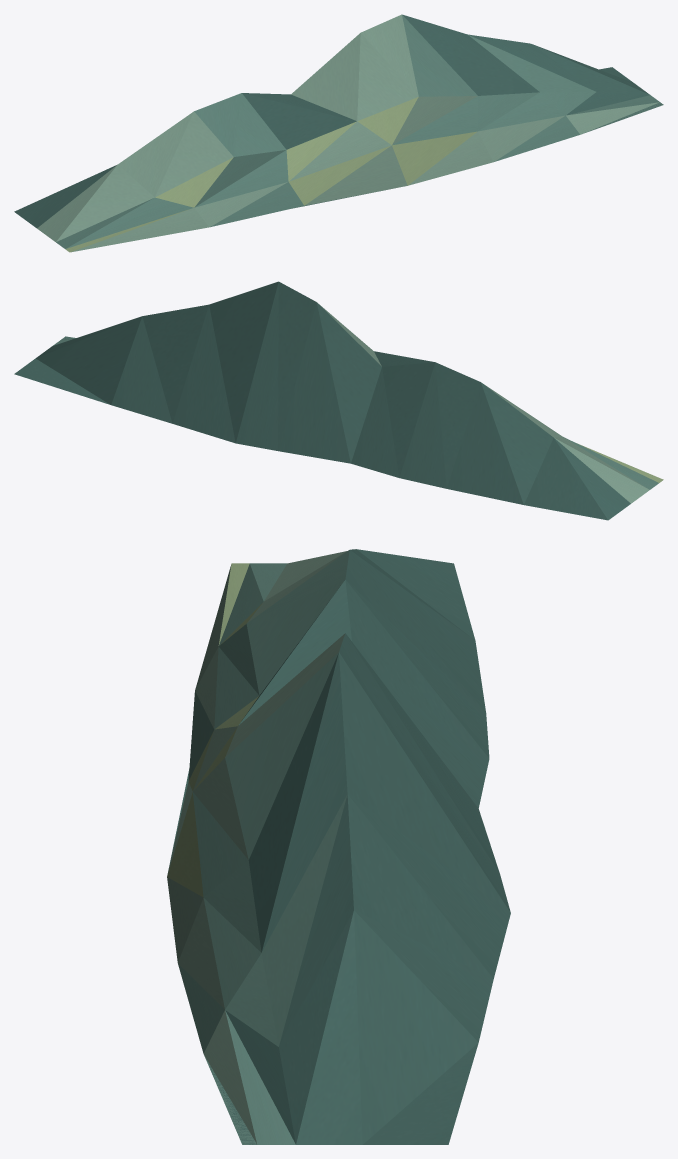
Rendered from 07_mountain_near.obj.
3 renders of one model, top to bottom at view 1: azimuth 30°, elevation 25°; view 2: azimuth 150°, elevation 25°; view 3: azimuth 270°, elevation 25°, orthographic. The views are drawn at different scales.
Visible parts, largest first — view 1: Mountain_Near; view 2: Mountain_Near; view 3: Mountain_Near.
Boxes of the visible parts, left/top/right/bottom form: Mountain_Near: left=14, top=14, right=663, bottom=252; Mountain_Near: left=14, top=281, right=663, bottom=520; Mountain_Near: left=167, top=549, right=510, bottom=1144.
Bounding box in the file's own units: 12.8 × 2.68 × 3.2.
1 material, 1 textured.
